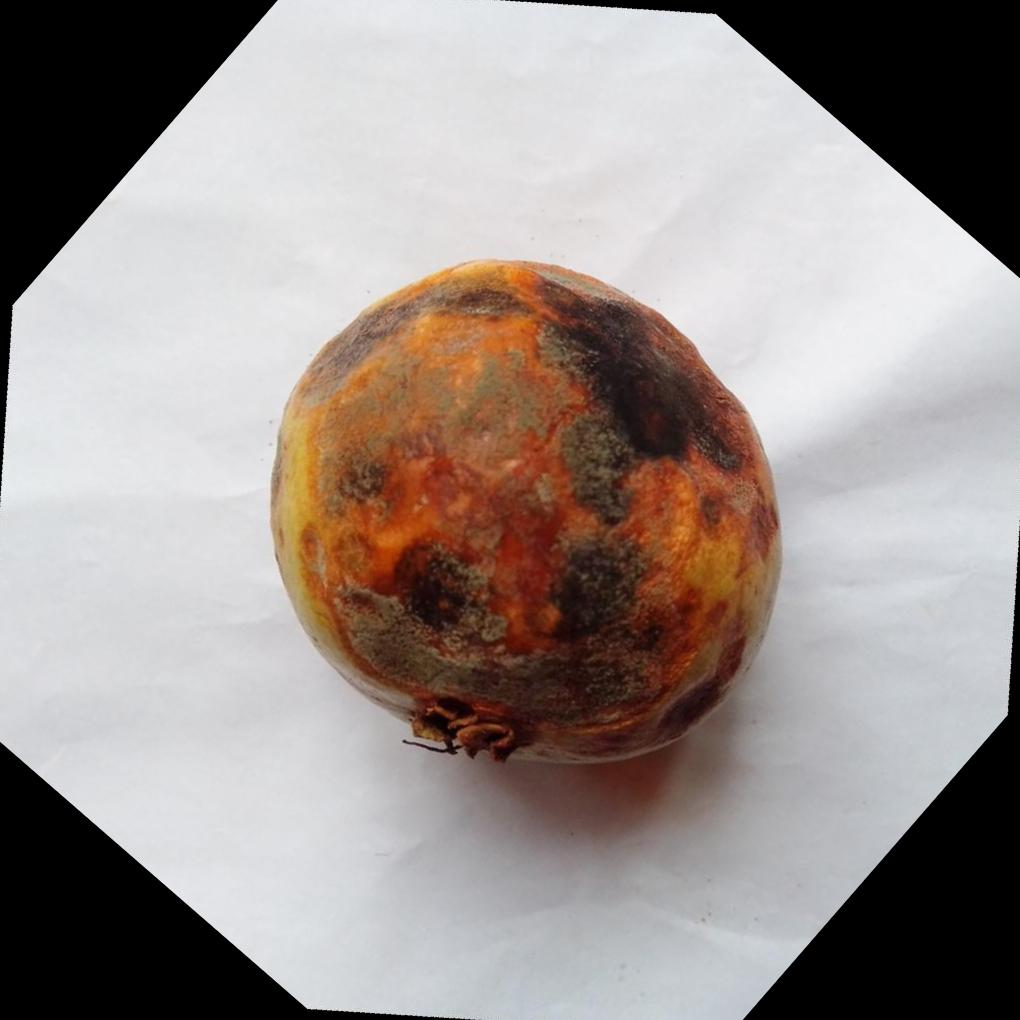FreshOrange: (268, 259, 785, 771)
